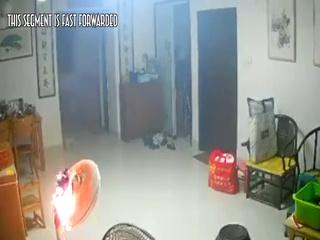Fire: (49, 142, 104, 234)
